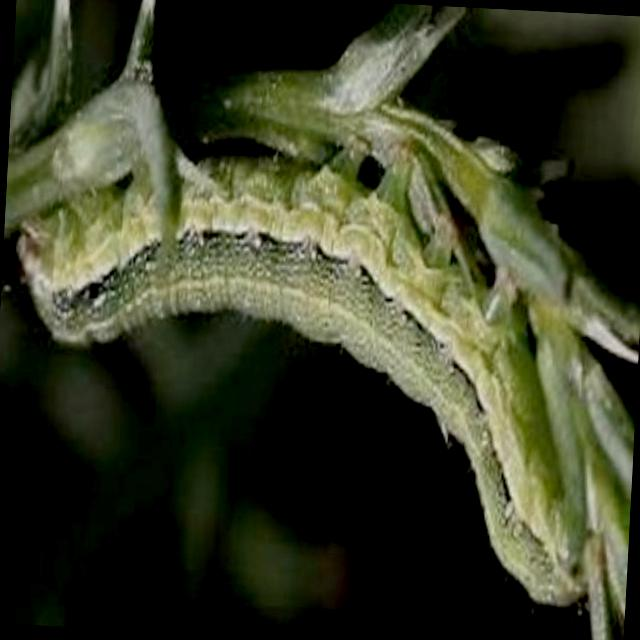Beet armyworm: (0, 54, 628, 624)
